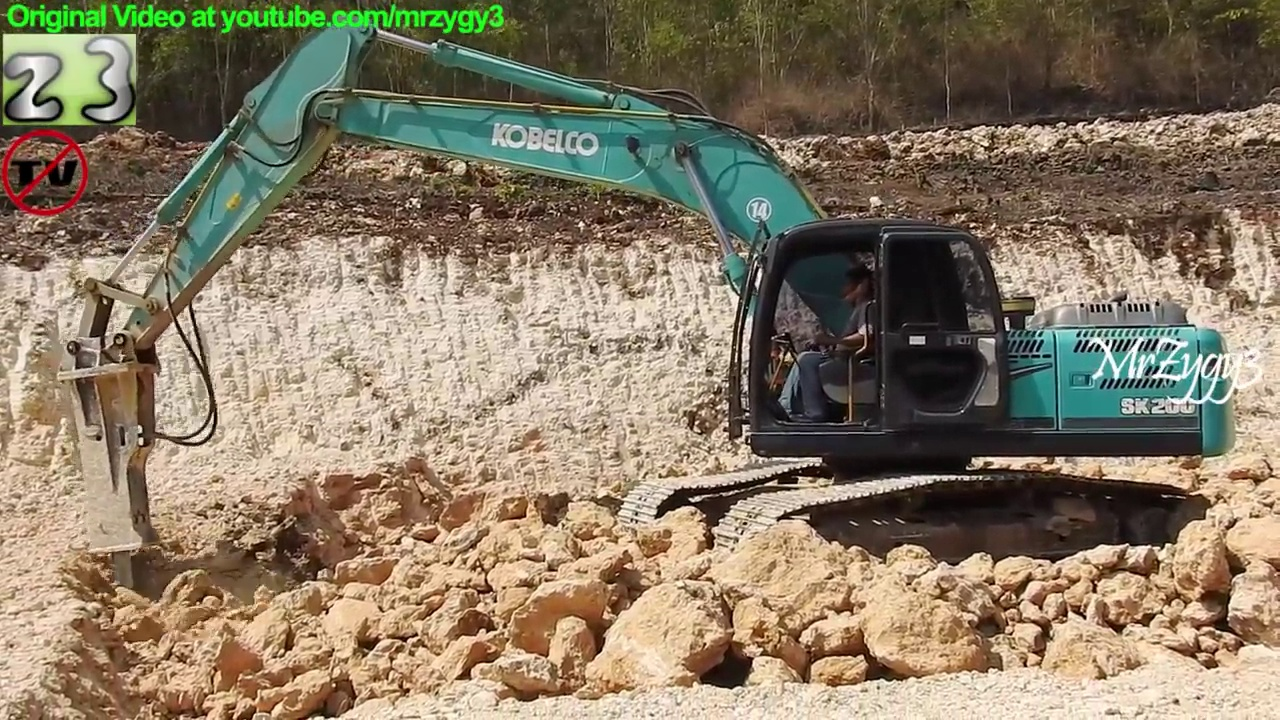excavator breaker: (54, 16, 1241, 595)
